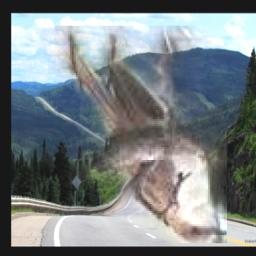Cuckoo: (42, 26, 227, 243)
